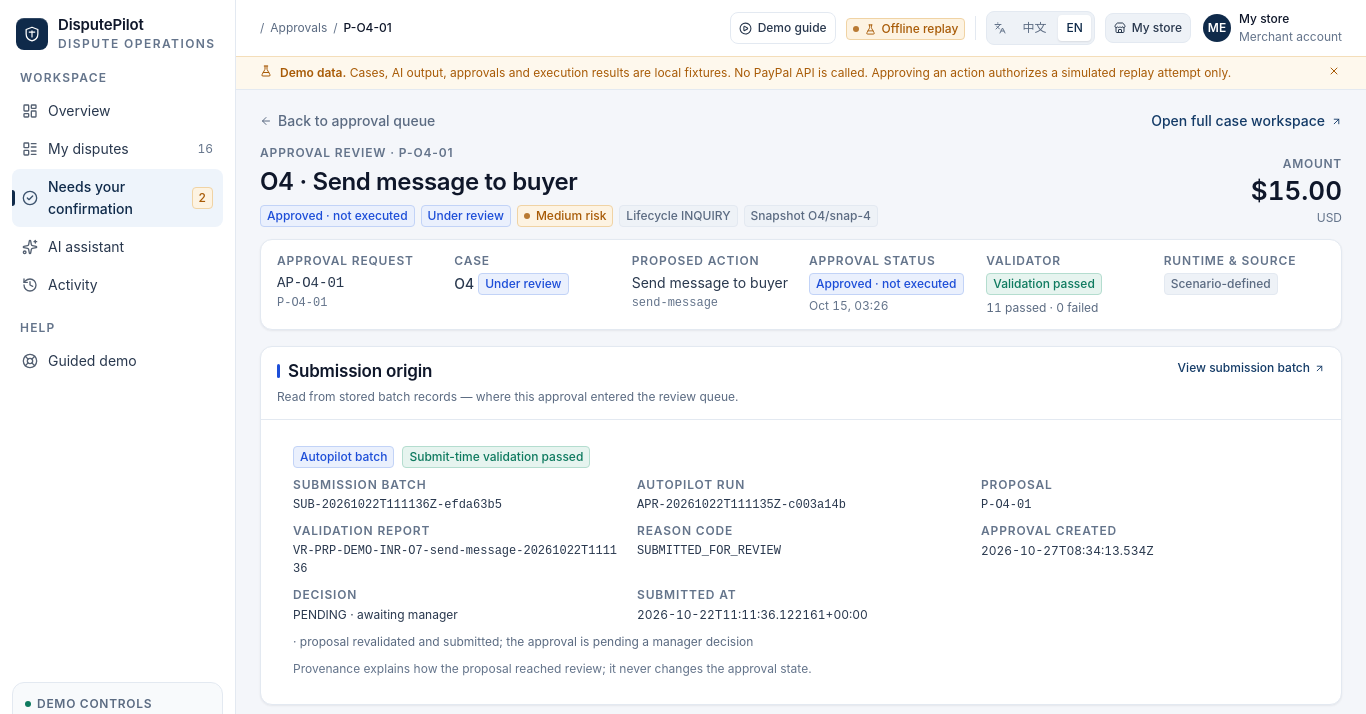
Test case: approval provenance › opens the linked batch through the autopilot deep link
Click the link "View submission batch". click: (1251, 368)
box: [1178, 359, 1325, 377]
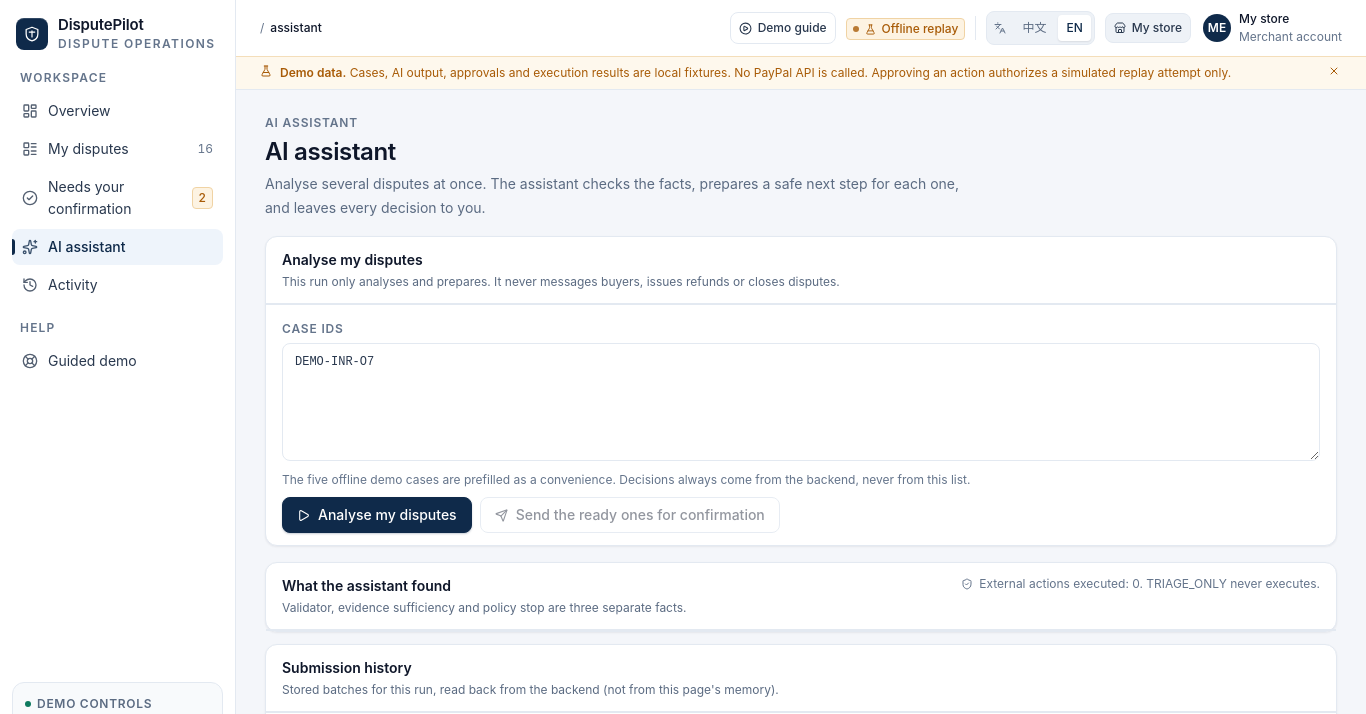
Expected: the text "Submission history" is shown, [282, 659, 412, 676]
